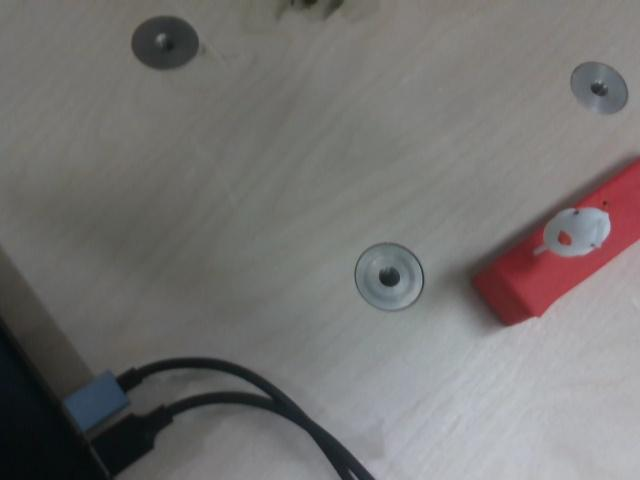w_duck: (527, 188, 618, 271)
